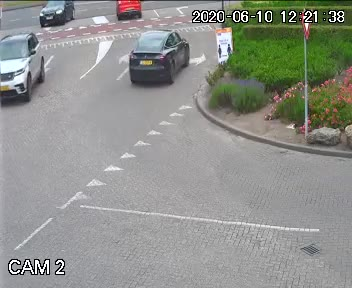car: (122, 24, 190, 93), (0, 33, 55, 109), (33, 0, 84, 31), (113, 0, 139, 21)
